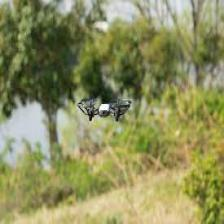drone: (77, 98, 131, 121)
